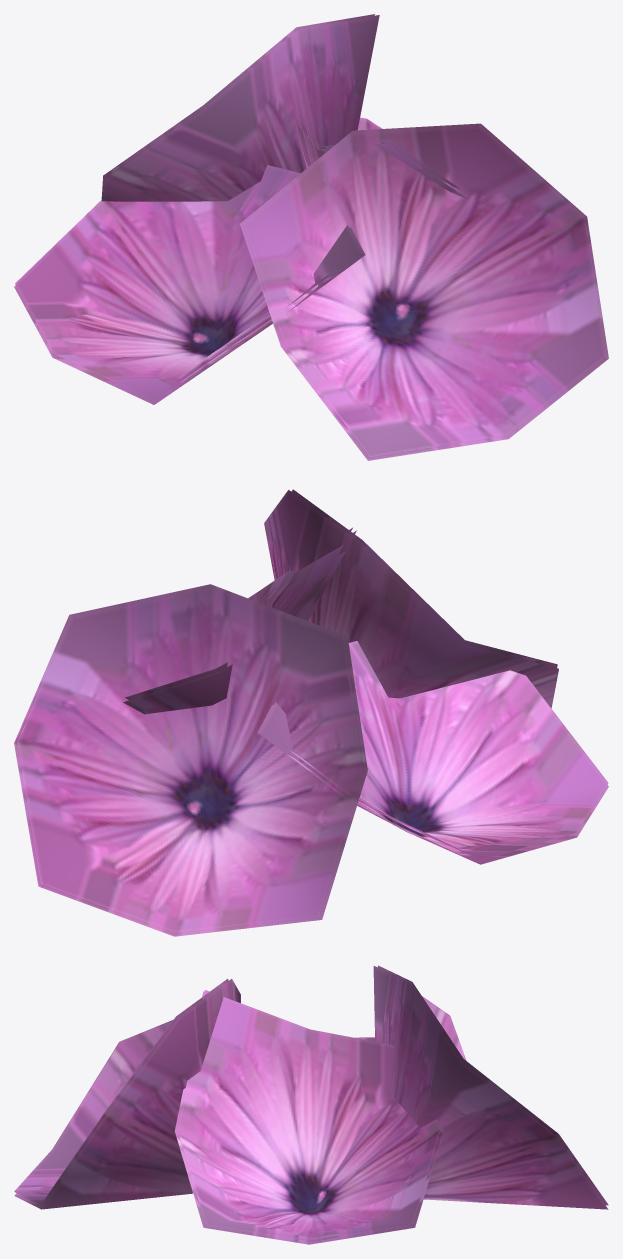
The model's file is flower_violet_1.fbx.
The picture shows the model from 3 angles, top to bottom: view 1: azimuth 30°, elevation 25°; view 2: azimuth 150°, elevation 25°; view 3: azimuth 270°, elevation 25°; orthographic projection. The views are drawn at different scales.
Parts seen in each view (by area): view 1: flower_violet_1; view 2: flower_violet_1; view 3: flower_violet_1.
Part boxes in pixels (x1=…): flower_violet_1: x1=14, y1=14, x2=608, y2=460; flower_violet_1: x1=14, y1=489, x2=608, y2=936; flower_violet_1: x1=14, y1=965, x2=608, y2=1244.
Size of the model in its own units: 0.8174 by 0.41 by 0.9509.
